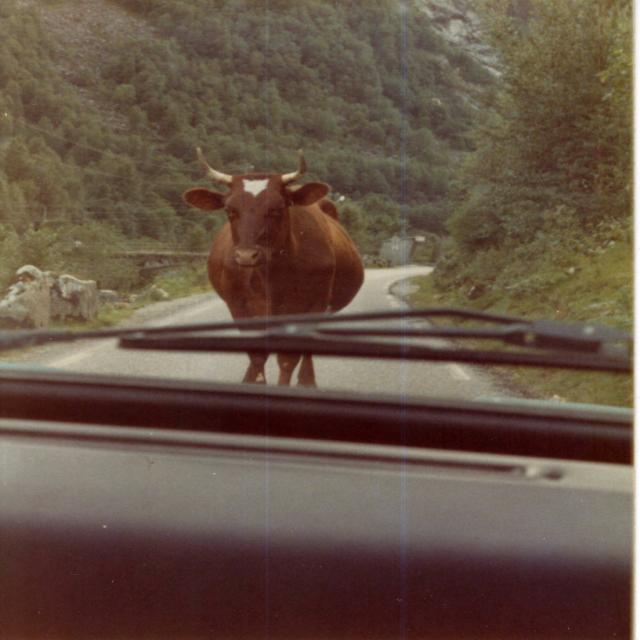Deer: (182, 150, 367, 392)
